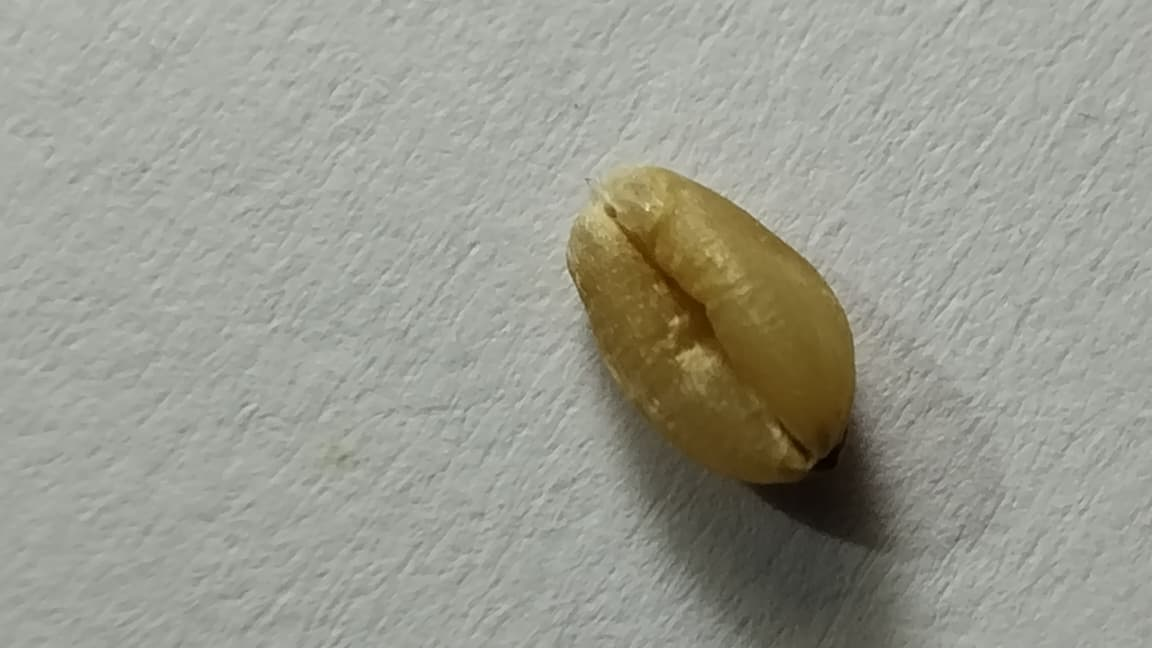healthy: (568, 166, 855, 483)
